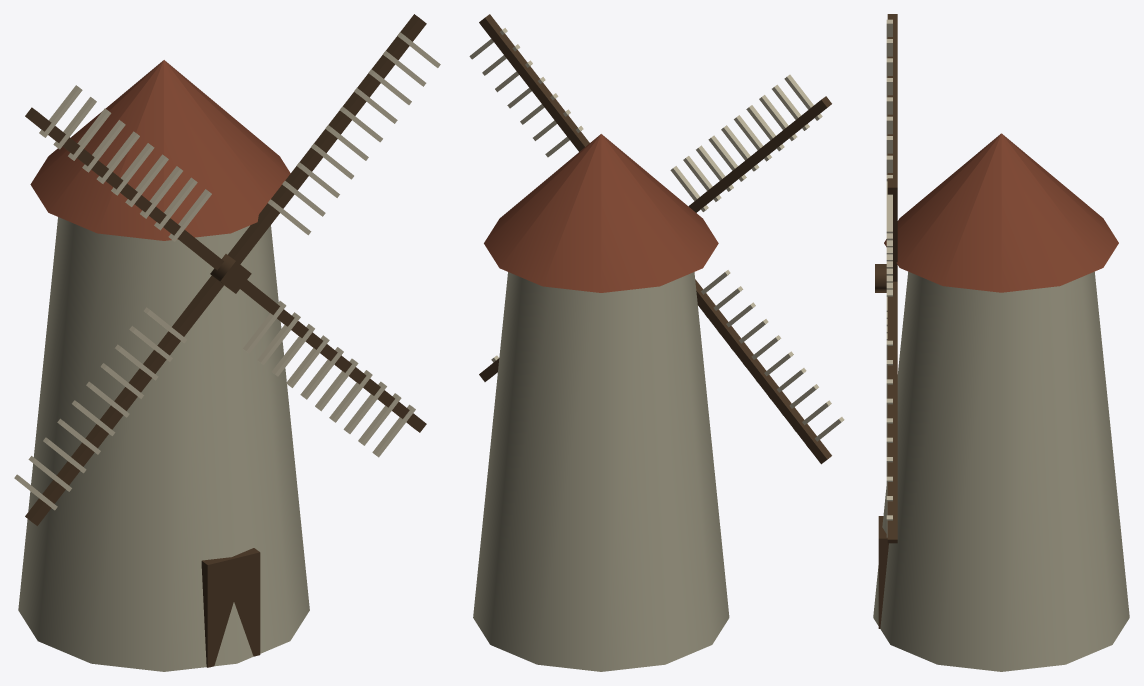
3 views of the same model, side by side, from view 1: azimuth 30°, elevation 25°; view 2: azimuth 150°, elevation 25°; view 3: azimuth 270°, elevation 25° (orthographic). The views are drawn at different scales.
Parts seen in each view (by area): view 1: alpine-body, alpine-windmill-rotor; view 2: alpine-body, alpine-windmill-rotor; view 3: alpine-body, alpine-windmill-rotor.
Boxes of the visible parts, box(x1,y1,x2,y2) form: alpine-body: box(18, 60, 309, 671); alpine-windmill-rotor: box(14, 14, 440, 525); alpine-body: box(473, 134, 729, 671); alpine-windmill-rotor: box(469, 14, 844, 464); alpine-body: box(873, 133, 1129, 671); alpine-windmill-rotor: box(886, 14, 897, 543).
Size of the model in its own units: 12.06 by 16.53 by 7.2.
